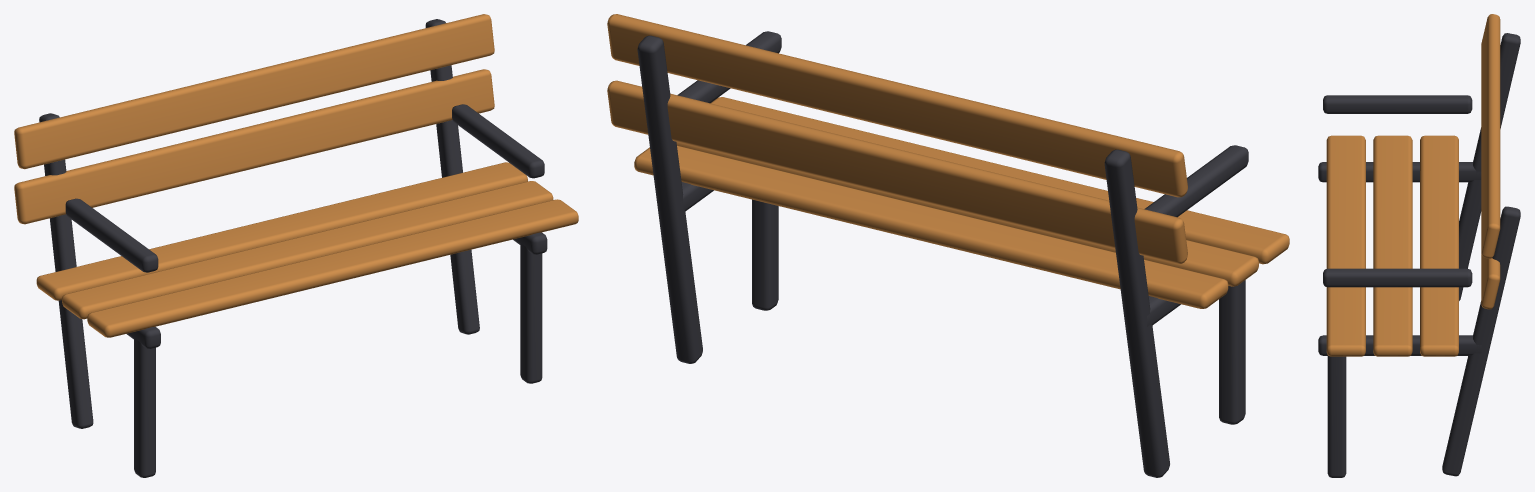
The model's file is ParkBench.fbx.
The picture shows the model from 3 angles, left to right: view 1: azimuth 30°, elevation 25°; view 2: azimuth 150°, elevation 25°; view 3: azimuth 270°, elevation 25°; orthographic projection. The views are drawn at different scales.
Visible parts, largest first — view 1: ParkBench; view 2: ParkBench; view 3: ParkBench.
Boxes of the visible parts, x1,y1,x2,y2 form: ParkBench: [14, 14, 578, 477]; ParkBench: [607, 14, 1289, 477]; ParkBench: [1318, 14, 1520, 477].
Size of the model in its own units: 5.4 by 3.2 by 2.17.
1 material, 1 textured.
